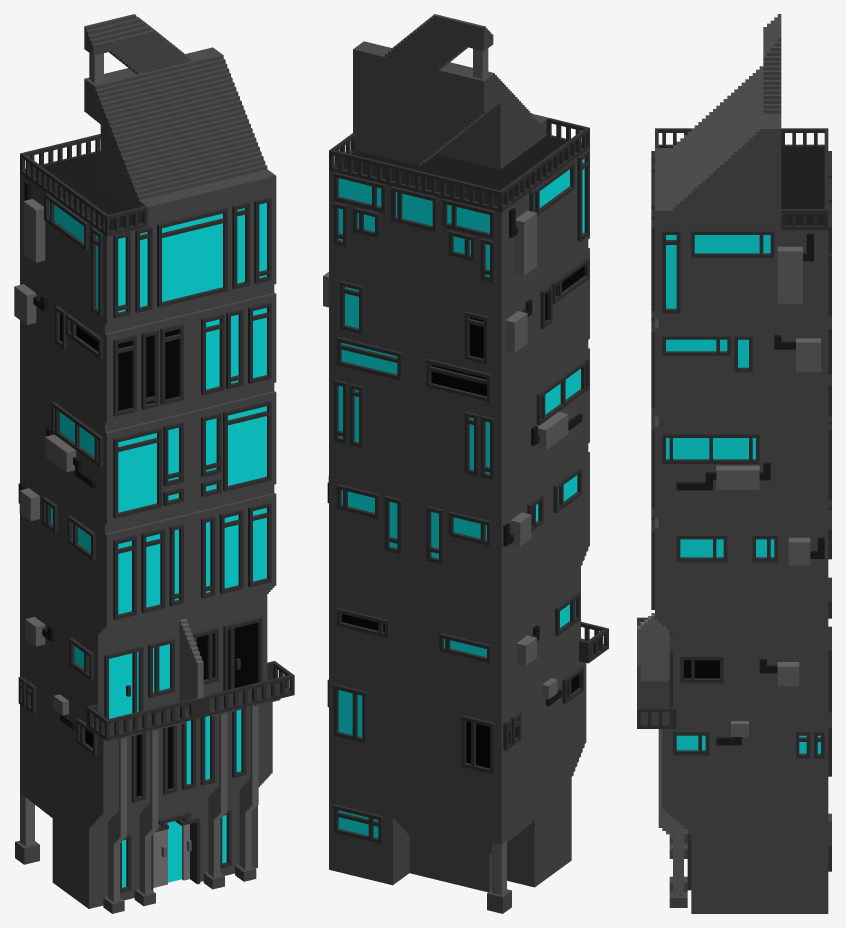
File: skyscrapersA-0.obj
3 views of the same model, side by side, from view 1: azimuth 30°, elevation 25°; view 2: azimuth 150°, elevation 25°; view 3: azimuth 270°, elevation 25° (orthographic). The views are drawn at different scales.
Bounding box in the file's own units: 6 × 25.6 × 5.4.
Materials: 1 (1 with a texture image).
